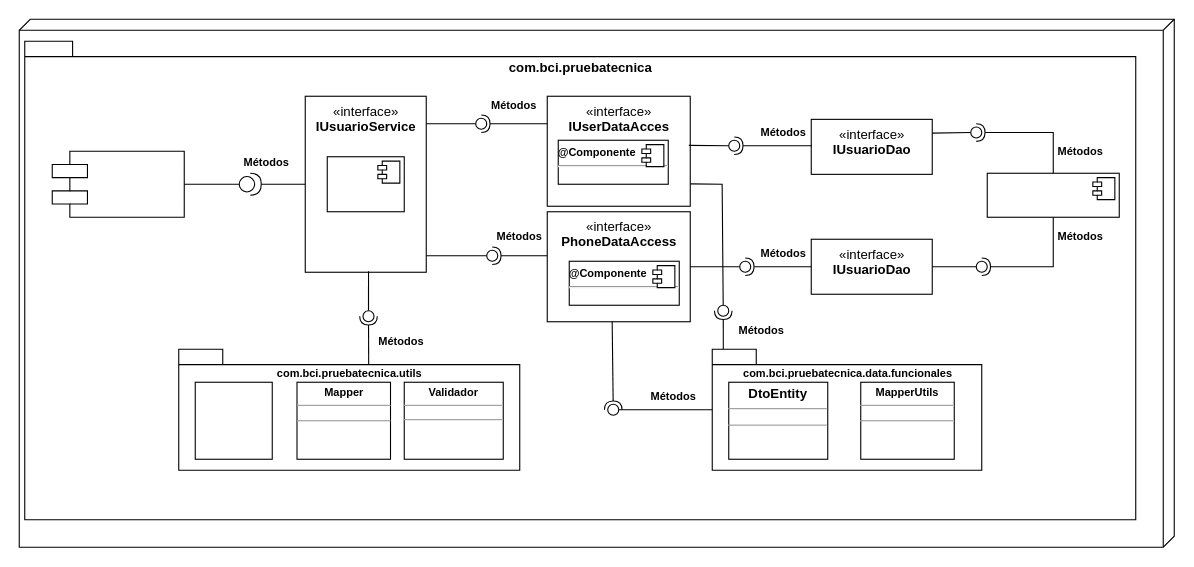
This 1194x567 diagram has some shape labels left out. Each missing label, with the centre of its shape:
"@CrudRepository" goes at (x=1052, y=194).
"@Service" goes at (x=365, y=184).
"Controller" goes at (x=117, y=183).
"Fecha" goes at (x=233, y=420).
